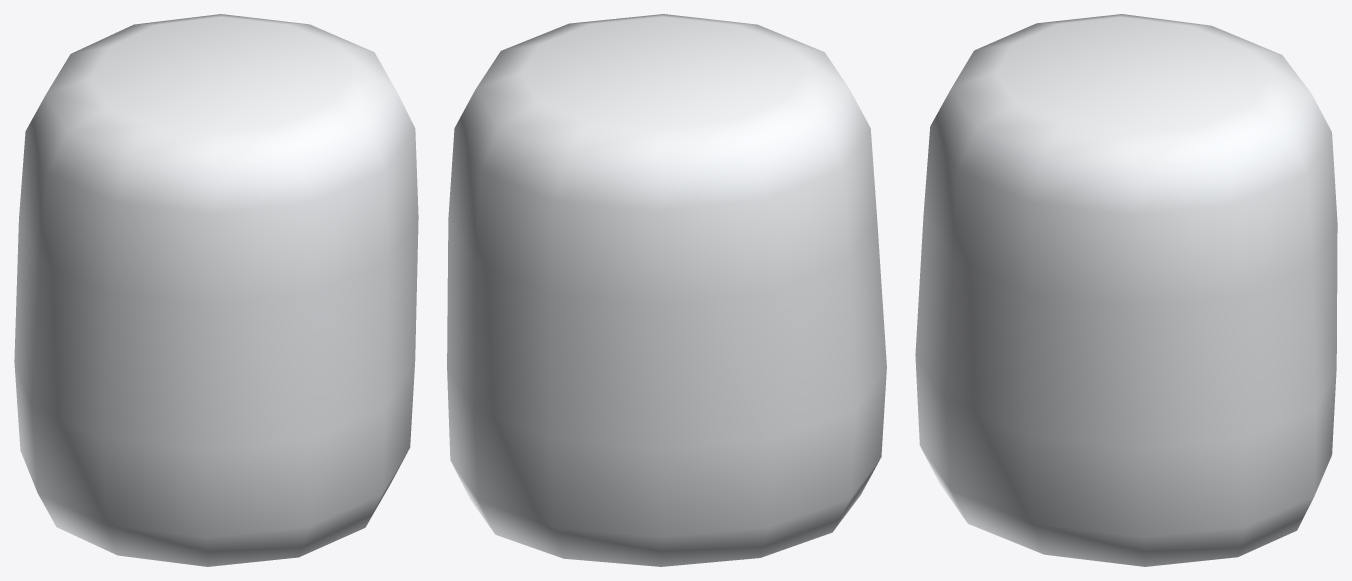
Rendered from Marshmallow_09.glb.
3 renders of one model, left to right at view 1: azimuth 30°, elevation 25°; view 2: azimuth 150°, elevation 25°; view 3: azimuth 270°, elevation 25°, orthographic. The views are drawn at different scales.
Parts seen in each view (by area): view 1: Marshmallow_09; view 2: Marshmallow_09; view 3: Marshmallow_09.
Part boxes in pixels (bbox=[...]): Marshmallow_09: bbox=[14, 14, 418, 566]; Marshmallow_09: bbox=[447, 14, 886, 566]; Marshmallow_09: bbox=[915, 14, 1337, 566].
Size of the model in its own units: 1.1 by 1.22 by 1.08.
1 material, 1 textured.
